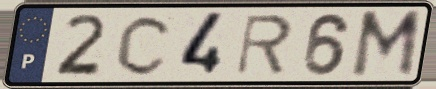2: (53, 12, 108, 79)
4: (176, 9, 230, 81)
6: (300, 11, 353, 78)
C: (113, 12, 177, 78)
M: (347, 8, 425, 81)
R: (233, 12, 296, 78)
